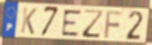2: (125, 10, 144, 42)
7: (39, 5, 60, 39)
E: (61, 9, 83, 37)
F: (103, 10, 125, 40)
K: (20, 6, 38, 36)
Z: (81, 9, 105, 40)
